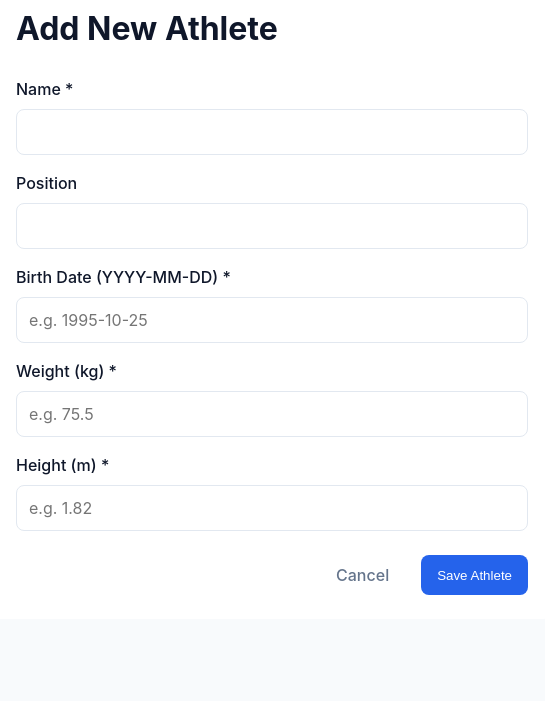
AthleteCreatePage › validates required fields on submit
Click the button "Save Athlete": {"x": 475, "y": 575} [421,555,528,595]
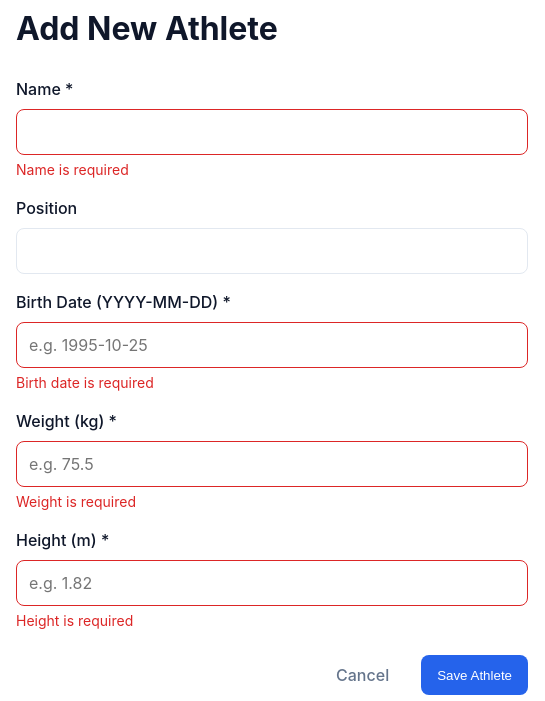
Now the text "Name is required" is shown, box [16,161,129,178]
Now the text "Birth date is required" is shown, box [16,374,154,391]
Now the text "Weight is required" is shown, box [16,493,136,510]
